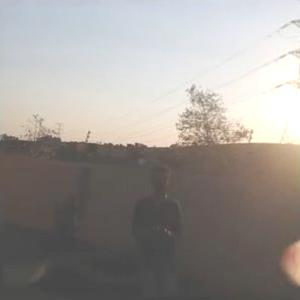follow: (124, 158, 182, 299)
